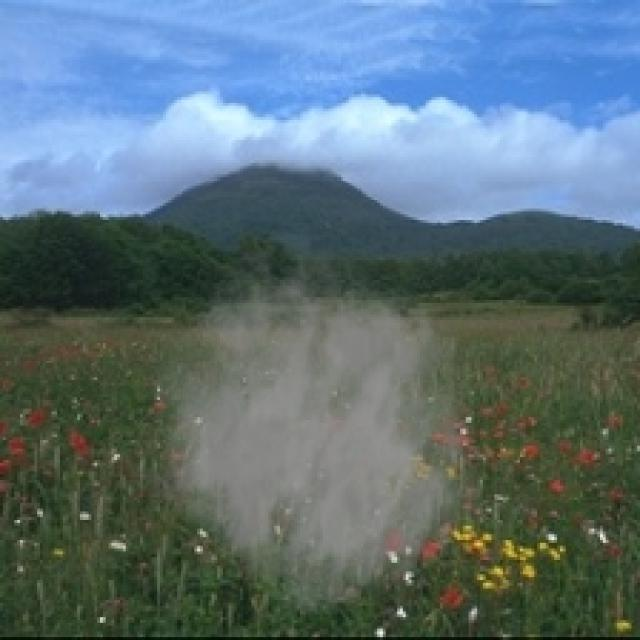Smoke: (134, 225, 483, 618)
